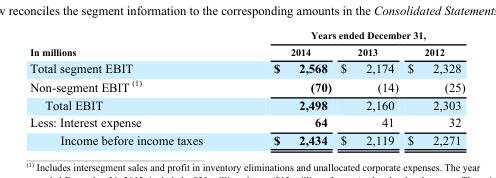table: (29, 29, 464, 146)
table column: (29, 29, 237, 146), (237, 29, 335, 146), (335, 29, 402, 146), (402, 29, 464, 146)
table column header: (29, 29, 464, 58)
table row: (29, 76, 464, 95), (29, 58, 464, 76), (29, 95, 464, 113), (29, 113, 464, 130), (29, 130, 464, 146), (29, 43, 464, 58), (29, 29, 464, 43)
table spanning cell: (29, 29, 237, 58), (237, 29, 464, 43)
